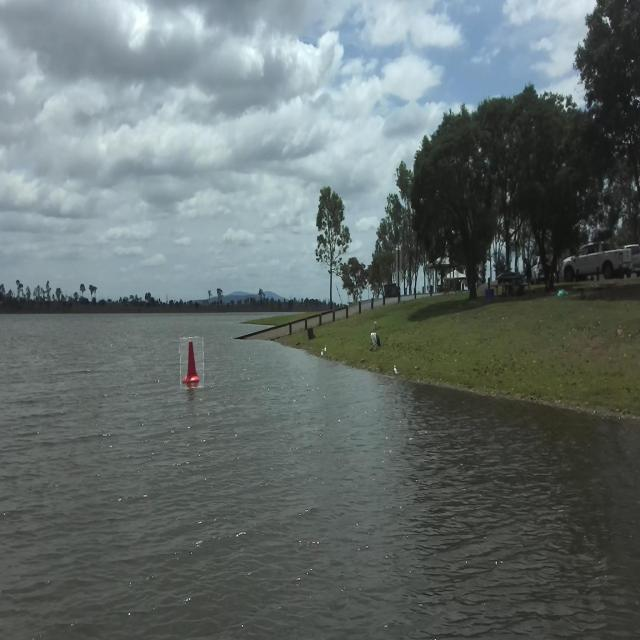Red_Buoy: (179, 334, 209, 391)
